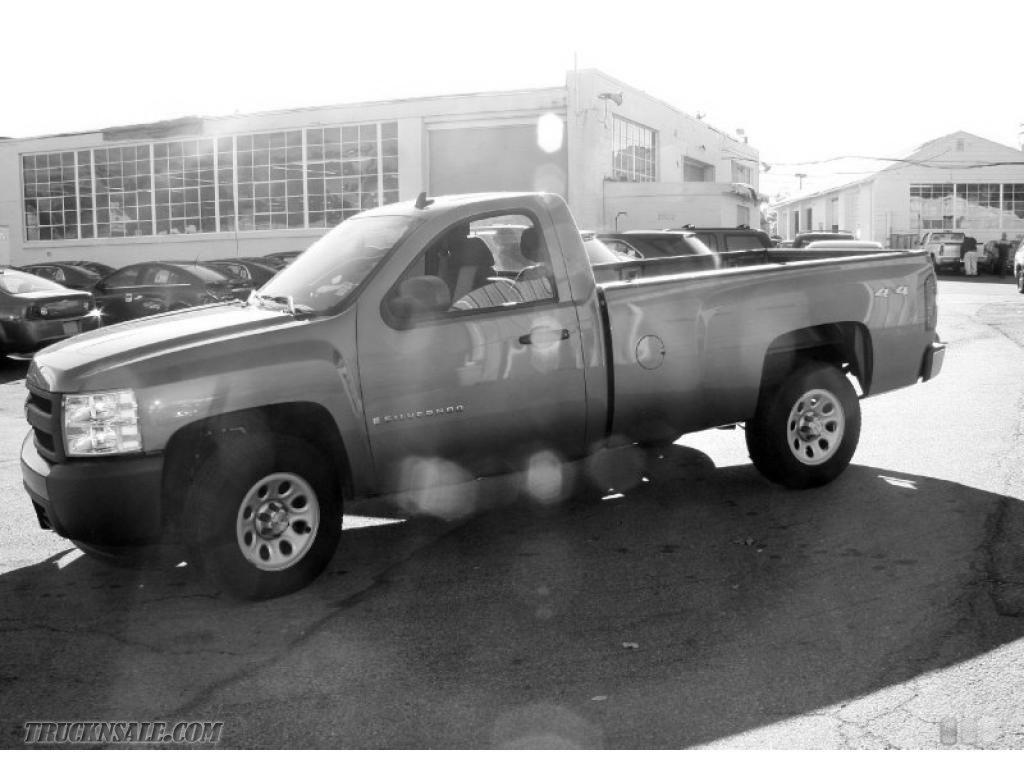car: (24, 187, 951, 600)
